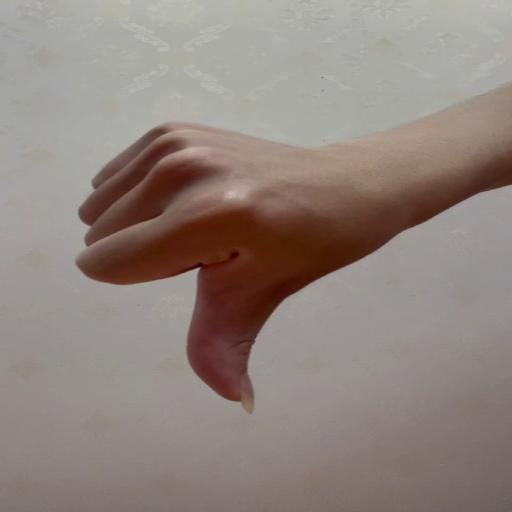thumbs_down: (75, 118, 388, 416)
